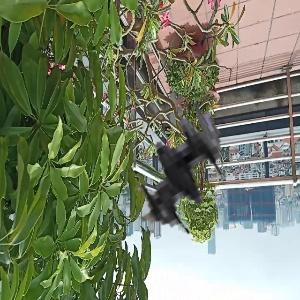drone: (104, 96, 248, 240)
